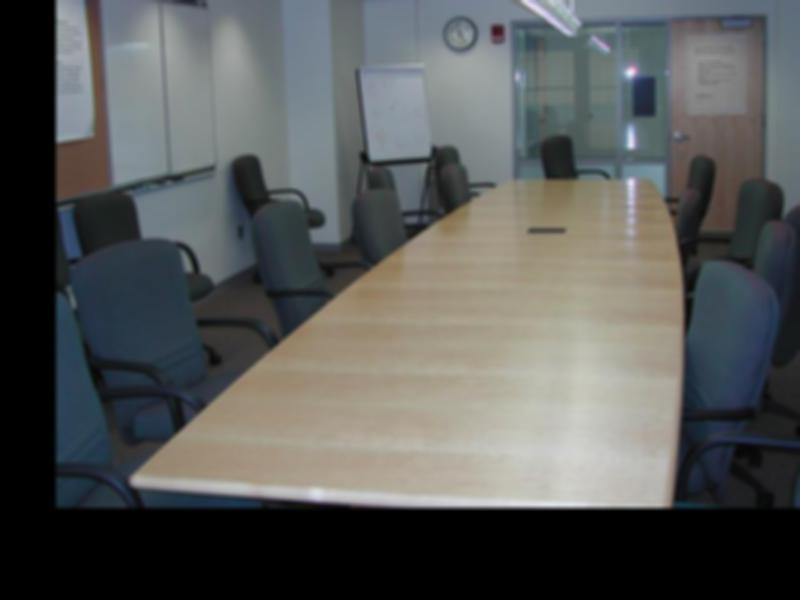Puerta: (674, 22, 763, 232)
